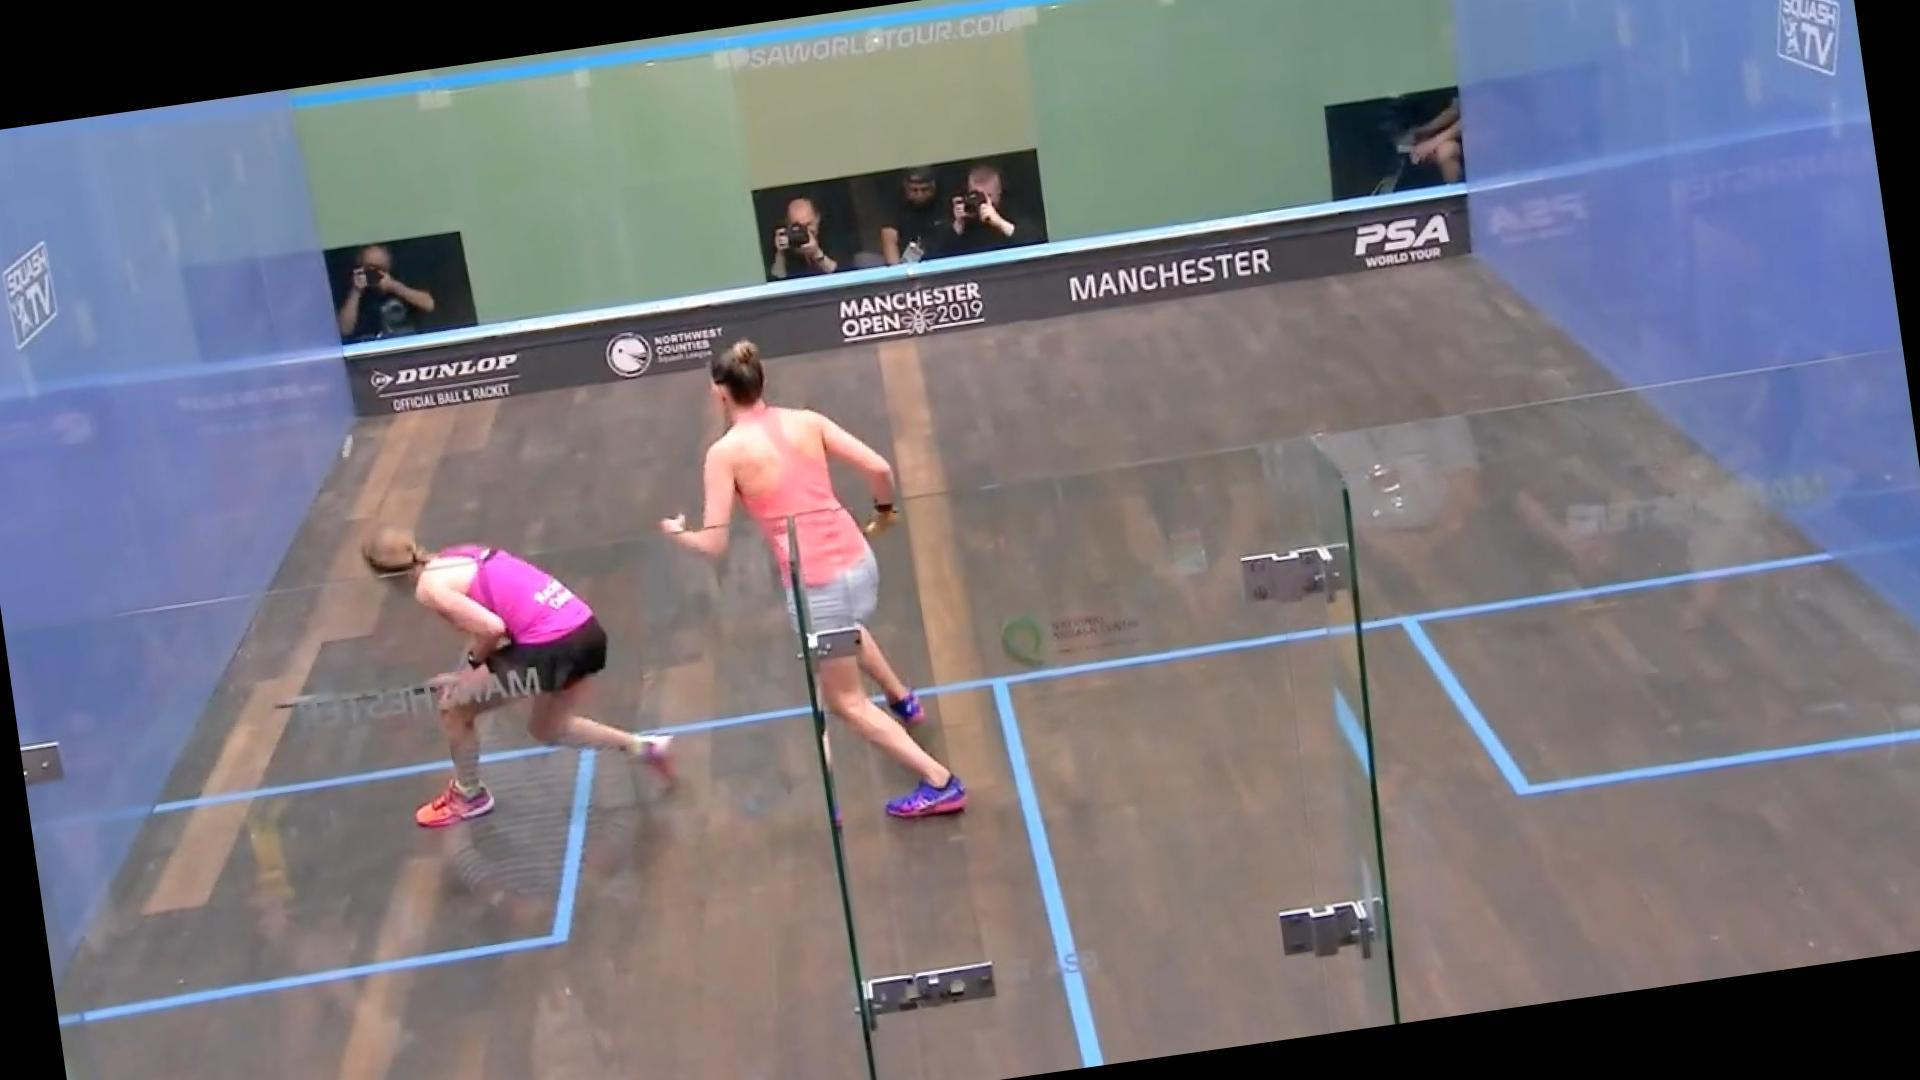Squash-Ball: (322, 409, 377, 481)
